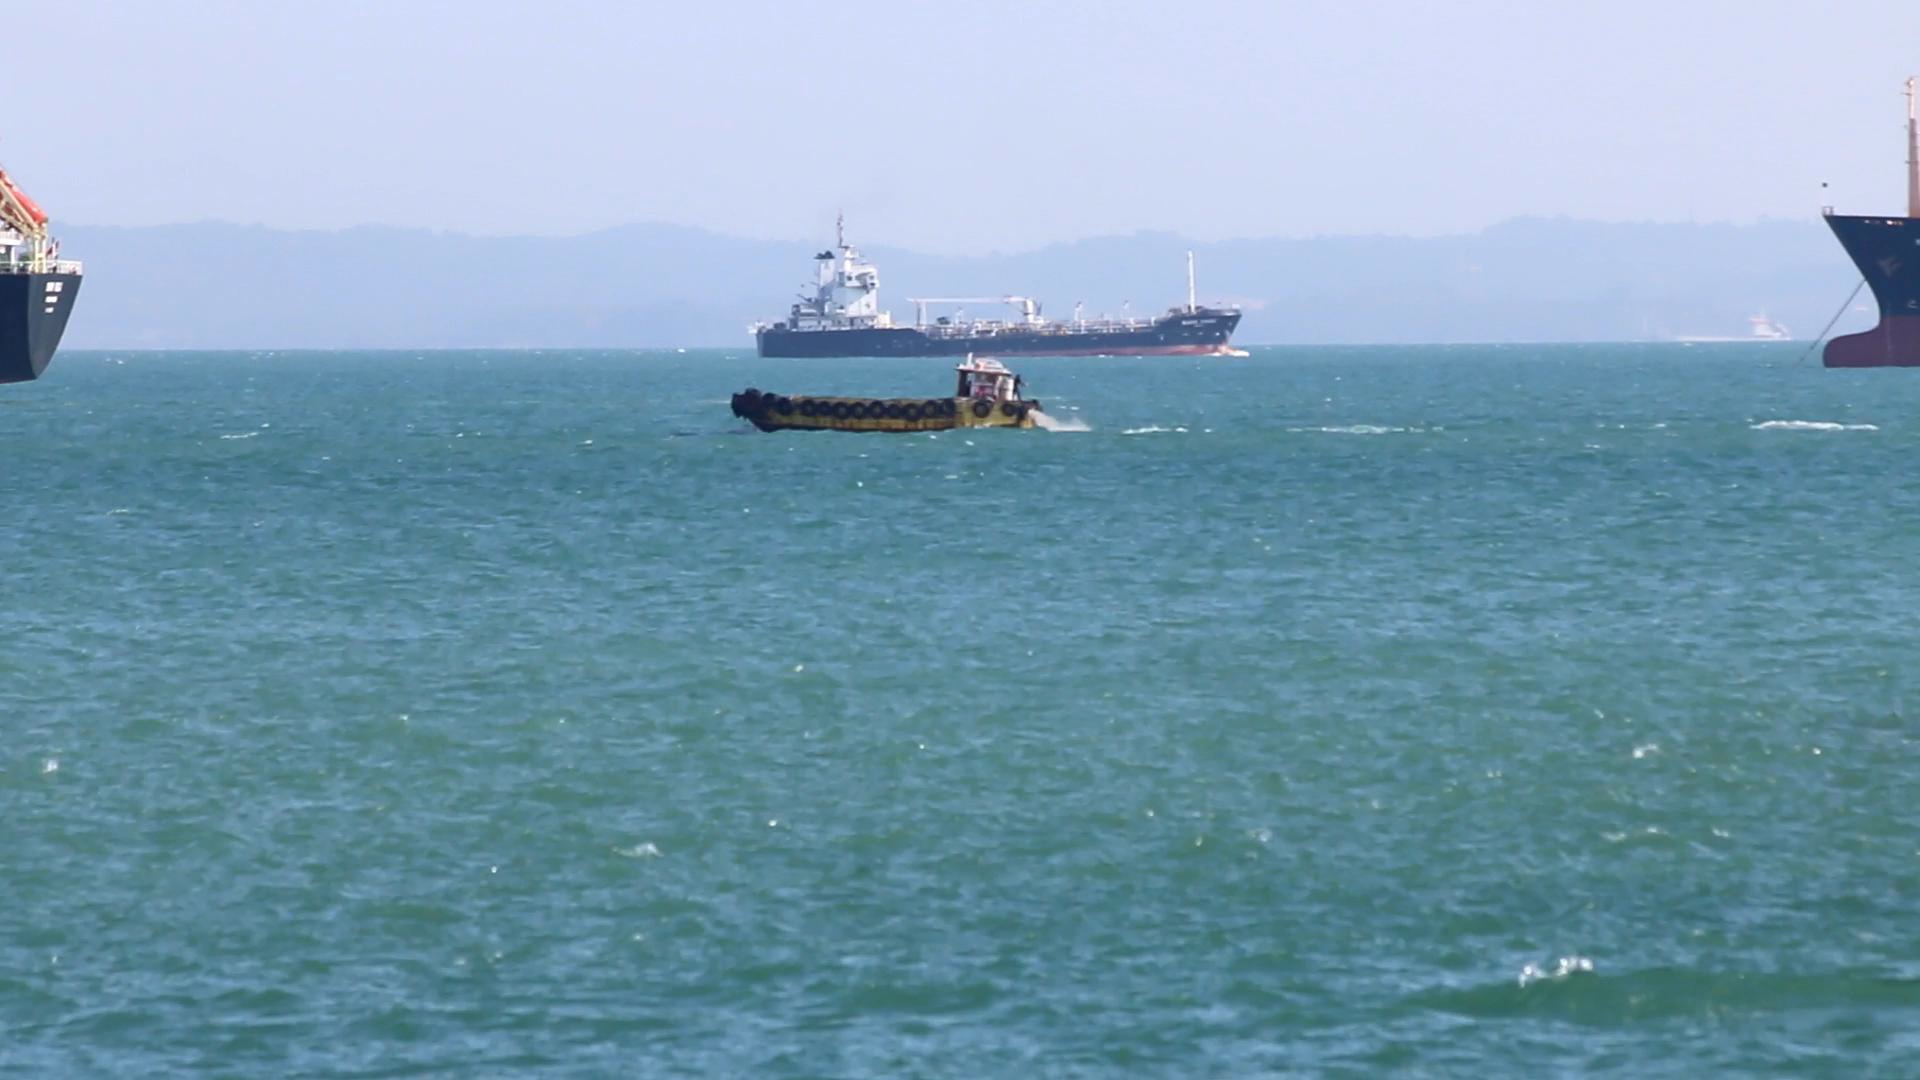Container Ship: (753, 205, 1242, 357), (1819, 75, 1920, 369), (0, 169, 82, 384)
